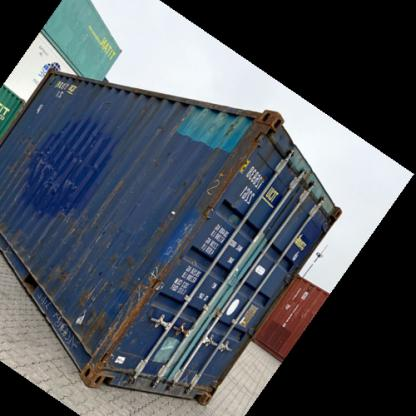Damage: (118, 254, 168, 308), (36, 148, 82, 194), (202, 166, 238, 214), (74, 288, 108, 338), (88, 211, 113, 254), (46, 255, 70, 279), (156, 145, 176, 167), (222, 115, 238, 142)
